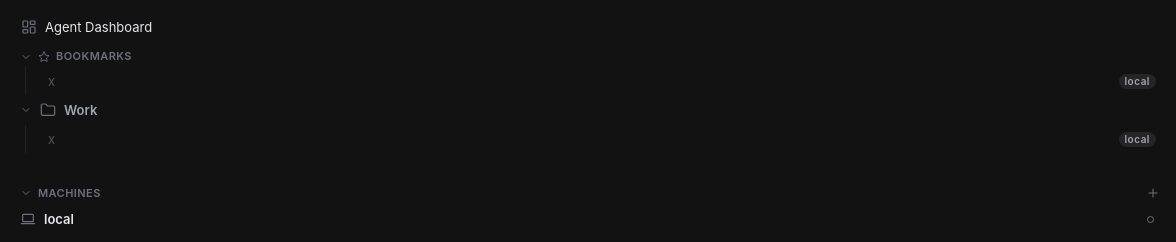
Sidebar machine actions › unbookmarking a session in a group keeps its group row
Step 1. Right-click the 1st text "x" → (52, 81), box left=48, top=72, right=55, bottom=90
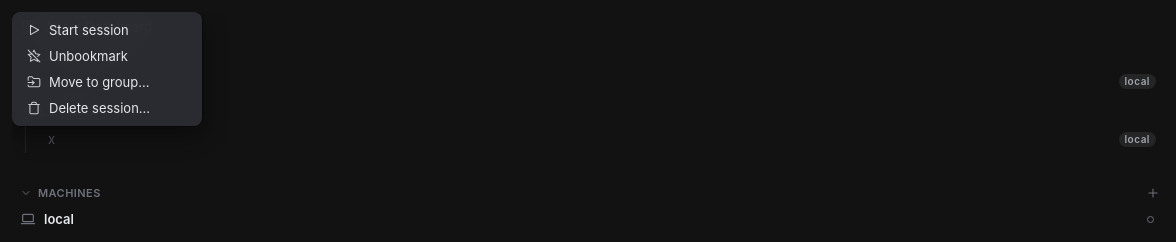
Step 2. Click the menu item "Unbookmark" → (107, 56), box left=17, top=43, right=197, bottom=69
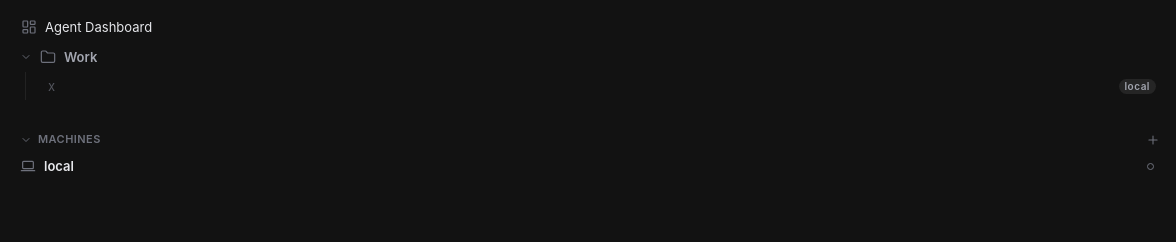
Check: the list item "x" shows "Work", box left=12, top=43, right=1164, bottom=71
Check: the button "Bookmarks" is gone
Check: the text "x" is shown once, box left=48, top=77, right=55, bottom=95
